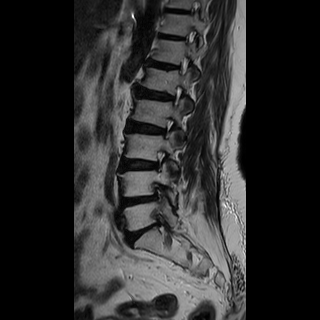LFS0: (164, 80, 190, 114)
LFS2: (146, 145, 172, 177)
